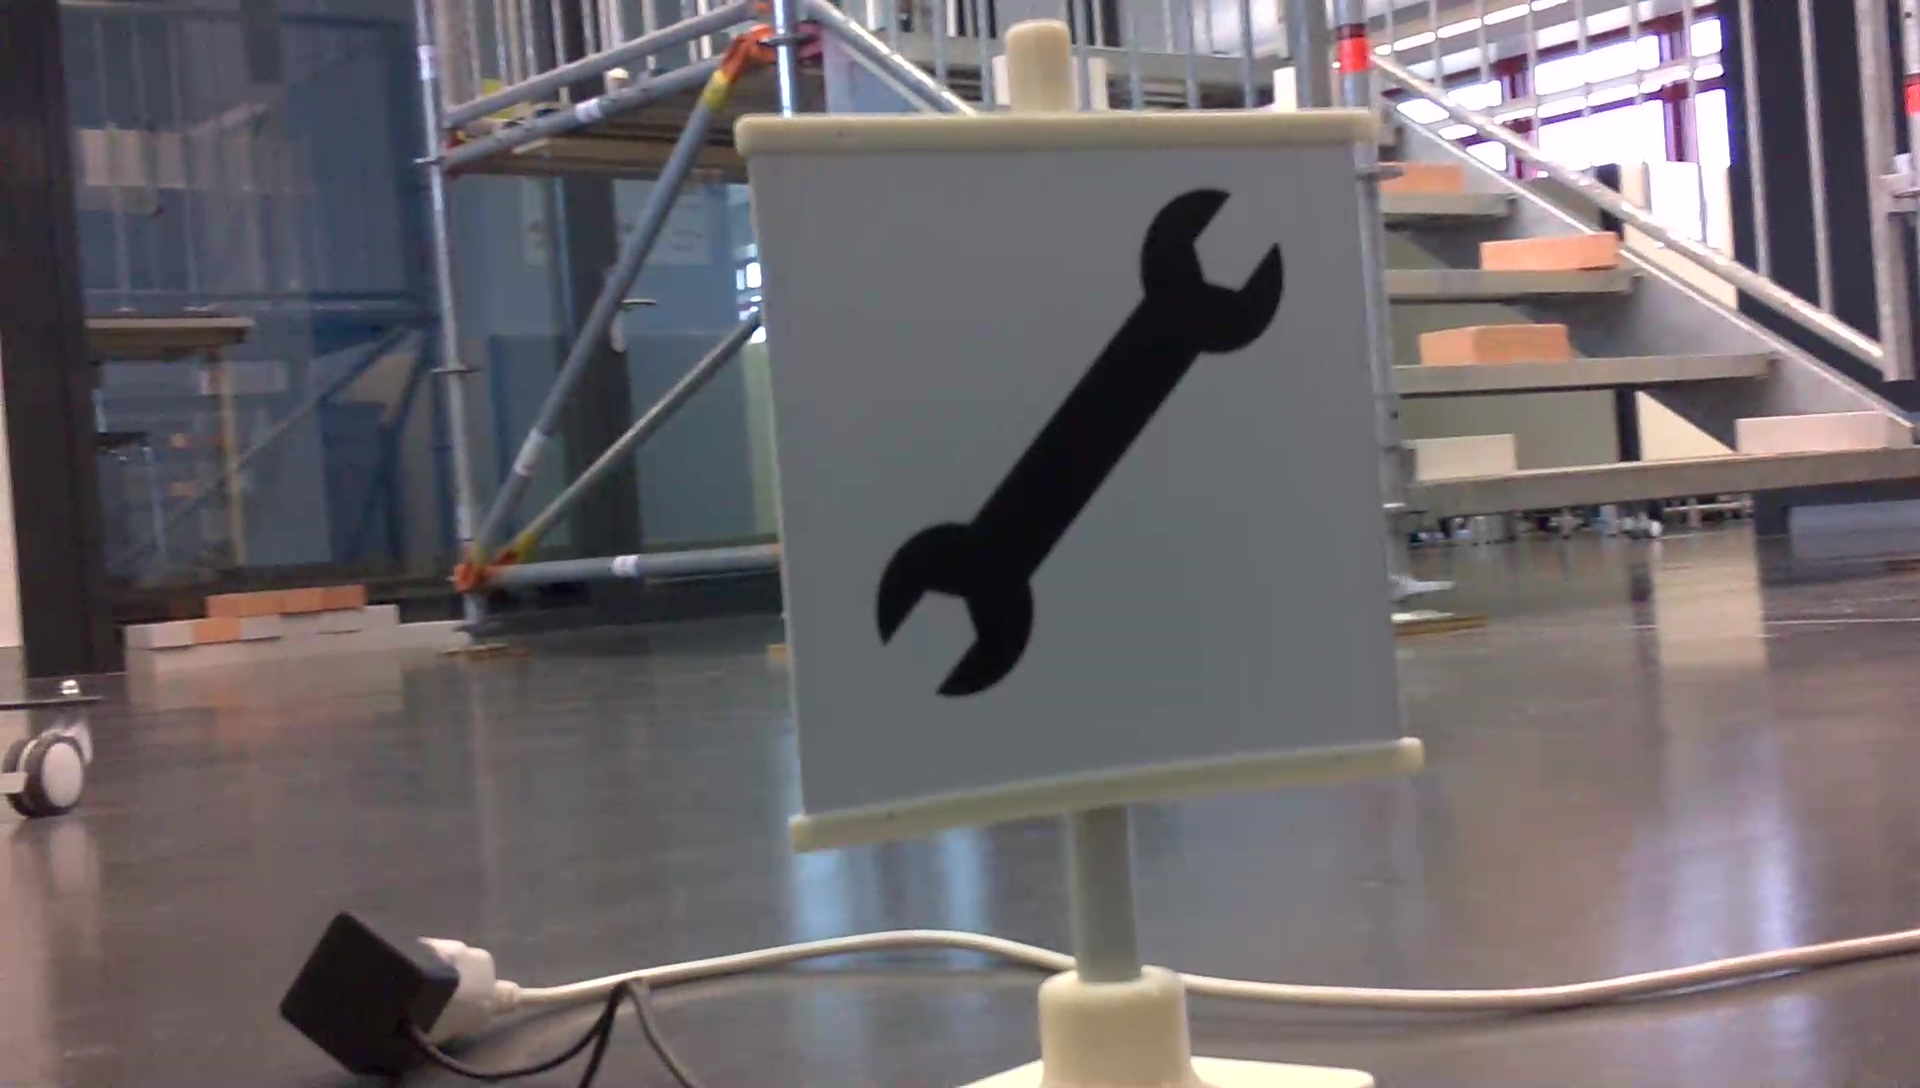brick: (1739, 411, 1883, 450), (1422, 326, 1563, 361), (1484, 235, 1618, 265), (1412, 438, 1513, 475), (1385, 161, 1462, 193)
edge: (1422, 450, 1917, 514), (1387, 349, 1778, 393), (1385, 266, 1640, 295), (1379, 189, 1513, 215)
wrench: (872, 175, 1298, 706)
